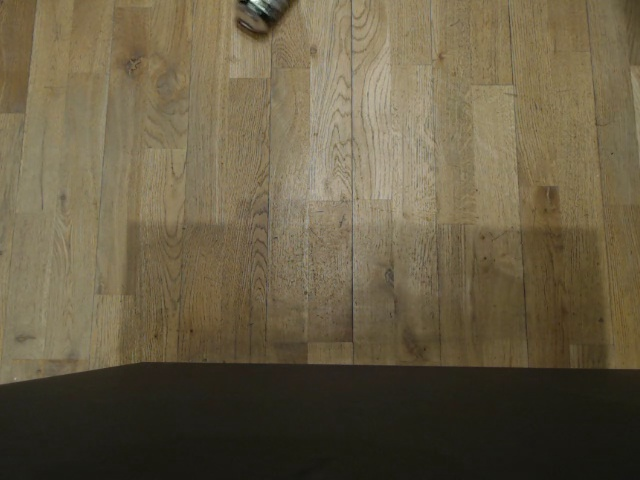beer: (231, 0, 296, 39)
